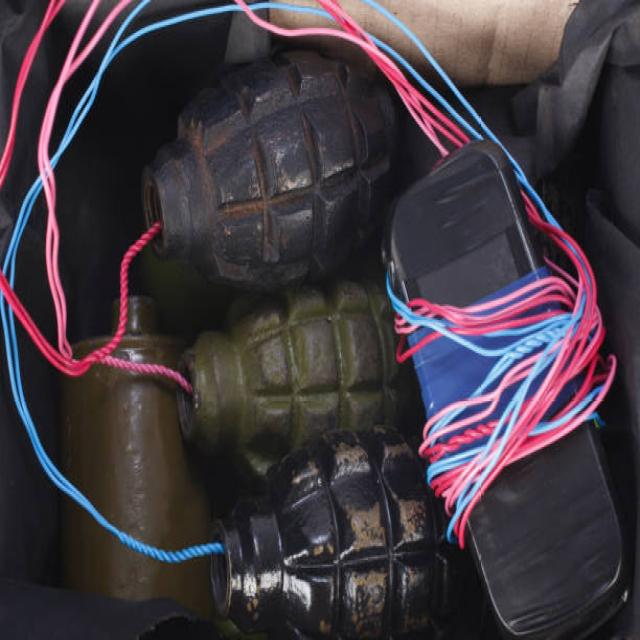grenade: (137, 44, 406, 305), (199, 422, 470, 640)
